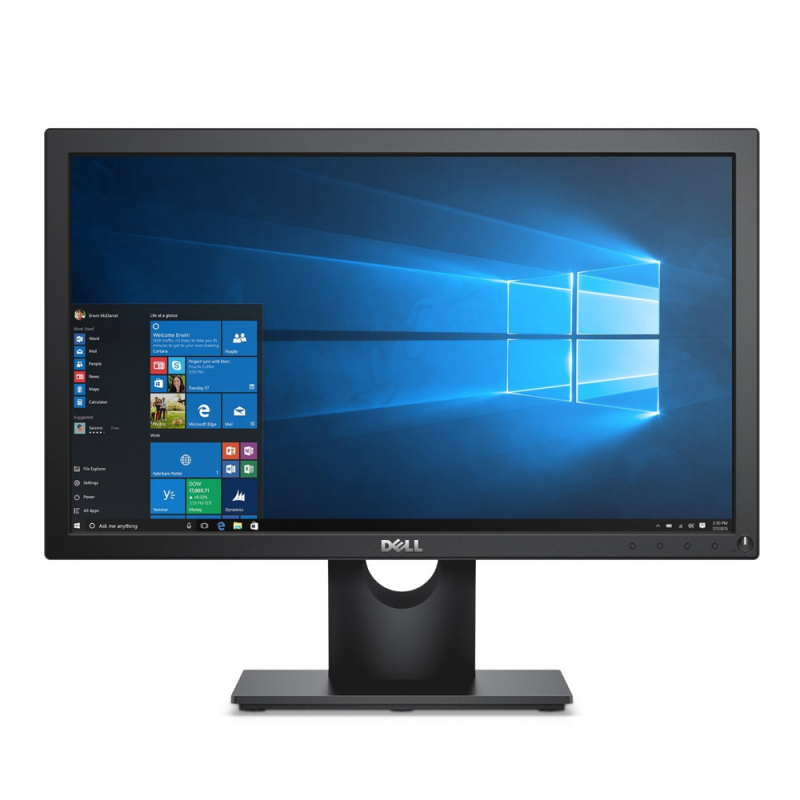dell-monitor-D1918H: (35, 130, 765, 719)
